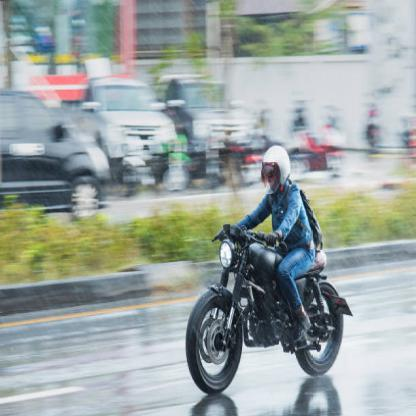Motorcycle: (179, 215, 349, 394)
